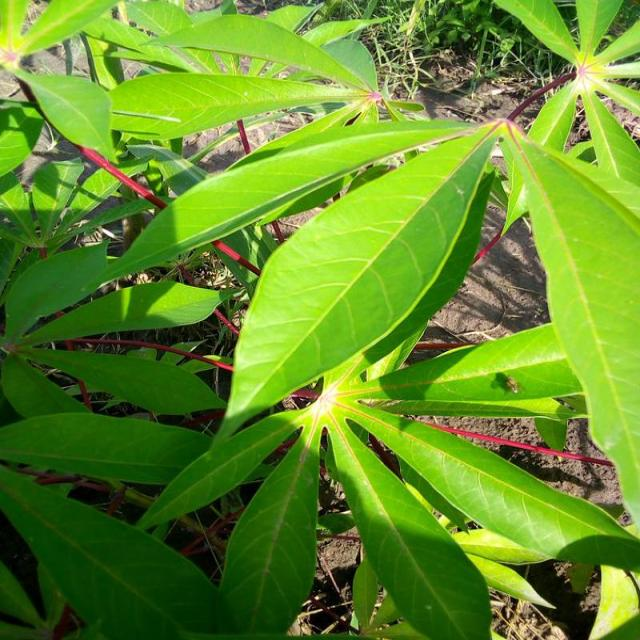cassava leaf: (1, 1, 638, 638), (213, 117, 501, 446), (499, 118, 638, 532)
